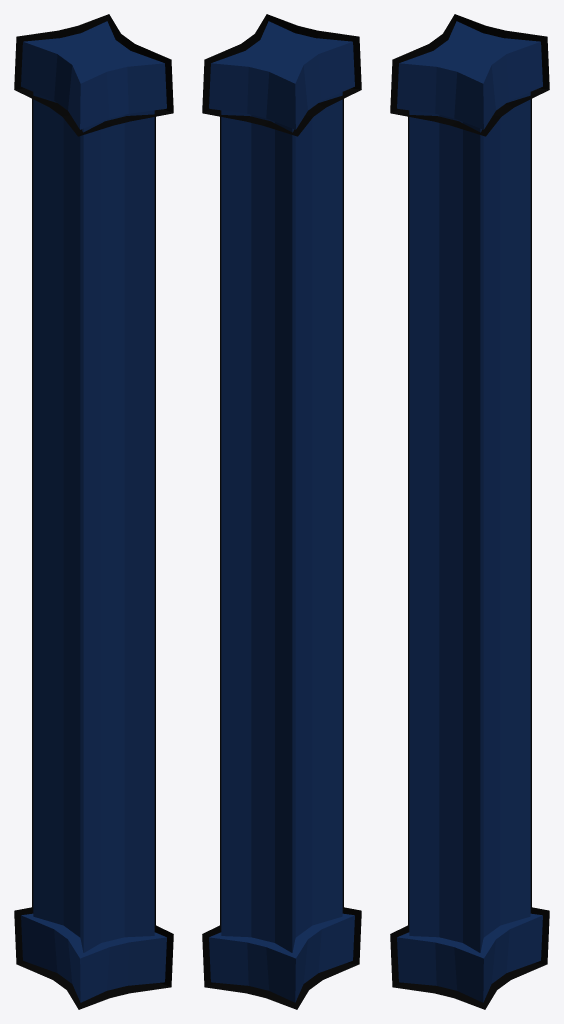
Rendered from pillar.fbx.
3 renders of one model, left to right at view 1: azimuth 30°, elevation 25°; view 2: azimuth 150°, elevation 25°; view 3: azimuth 330°, elevation 25°, orthographic.
Visible parts, largest first — view 1: Cube; view 2: Cube; view 3: Cube.
Boxes of the visible parts, x1,y1,x2,y2 form: Cube: [14, 14, 173, 1009]; Cube: [202, 14, 361, 1009]; Cube: [390, 14, 549, 1009].
Bounding box in the file's own units: 121 × 1120 × 140.
